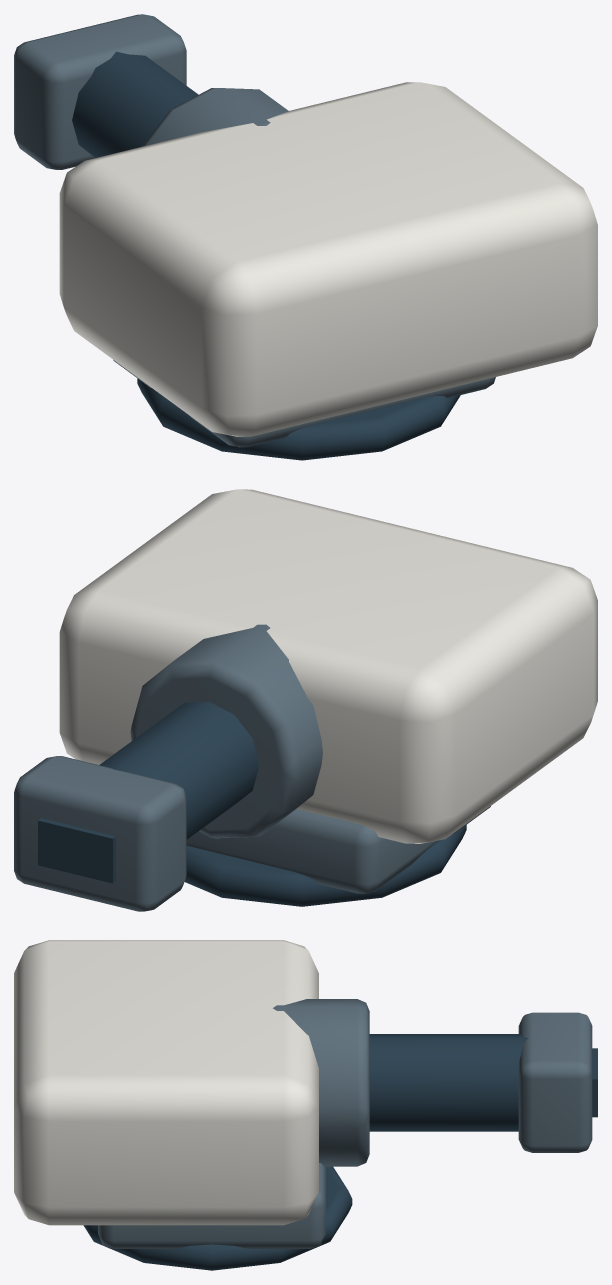
Rendered from cannon.glb.
3 views of the same model, one above another, from view 1: azimuth 30°, elevation 25°; view 2: azimuth 150°, elevation 25°; view 3: azimuth 270°, elevation 25° (orthographic). The views are drawn at different scales.
Visible parts, largest first — view 1: GunHousing, MuzzleBrake, RotationBearing, Barrel, BarrelRoot, RotationYoke; view 2: GunHousing, BarrelRoot, MuzzleBrake, Barrel, RotationYoke, RotationBearing, Bore; view 3: GunHousing, Barrel, MuzzleBrake, BarrelRoot, RotationYoke, RotationBearing.
Part boxes in pixels (left/top/right/bottom): GunHousing: left=59, top=82, right=597, bottom=436; MuzzleBrake: left=14, top=14, right=186, bottom=169; RotationBearing: left=137, top=378, right=460, bottom=460; Barrel: left=72, top=51, right=198, bottom=157; BarrelRoot: left=142, top=88, right=288, bottom=146; RotationYoke: left=113, top=360, right=495, bottom=447; GunHousing: left=59, top=489, right=597, bottom=843; BarrelRoot: left=130, top=624, right=322, bottom=838; MuzzleBrake: left=14, top=756, right=186, bottom=911; Barrel: left=99, top=701, right=259, bottom=839; RotationYoke: left=186, top=806, right=490, bottom=893; RotationBearing: left=184, top=825, right=466, bottom=906; Bore: left=38, top=818, right=115, bottom=883; GunHousing: left=14, top=940, right=318, bottom=1225; Barrel: left=369, top=1034, right=527, bottom=1131; MuzzleBrake: left=518, top=1012, right=592, bottom=1152; BarrelRoot: left=273, top=999, right=369, bottom=1166; RotationYoke: left=98, top=1163, right=325, bottom=1248; RotationBearing: left=83, top=1166, right=352, bottom=1270.
Bounding box in the file's own units: 1.1 × 0.66 × 1.67.
